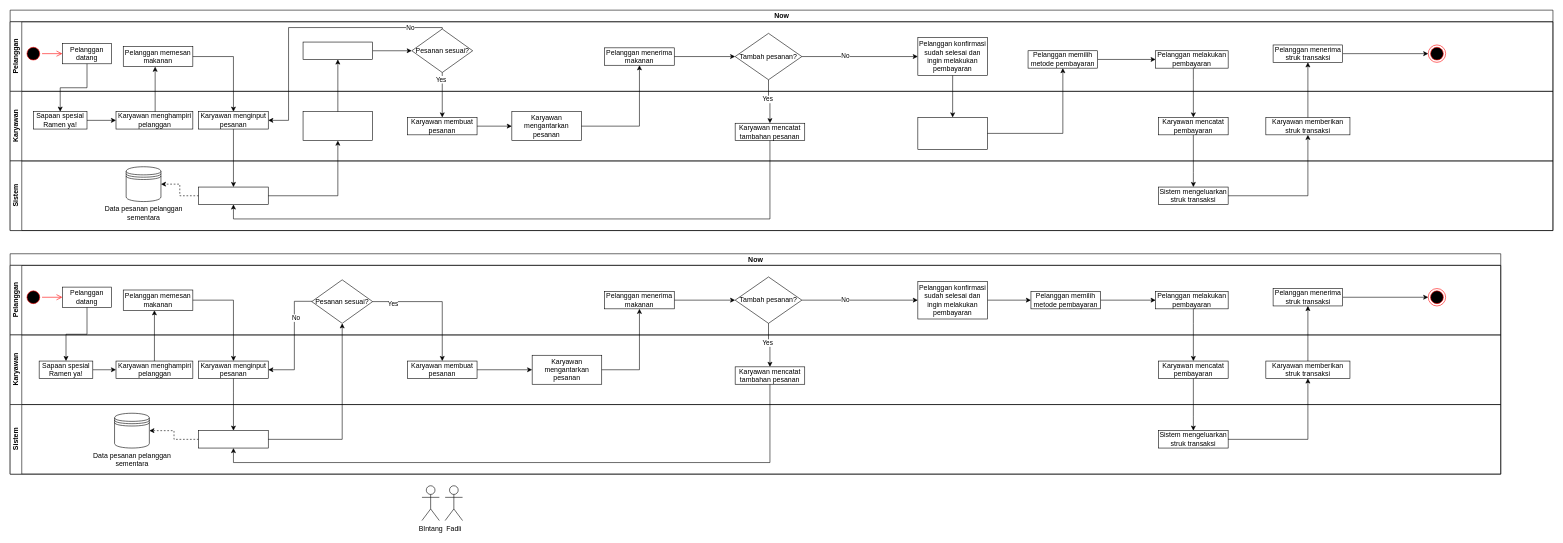
The diagram is 1563 pixels wide and 543 high, and some of its shapes have lost their labels. The shapes that lost their labels are listed below. From the top down, each one's box as (x1, y1, x2, y2) in pixels, then its label:
(302, 41, 373, 59): Pelanggan menerima table checker
(302, 111, 373, 141): Karyawan memberikan struk table checker
(917, 117, 987, 149): Karyawan memberikan struk notepad
(198, 186, 268, 204): Sistem mengeluarkan struk table checker
(198, 430, 268, 448): Sistem mencatat pesanan
